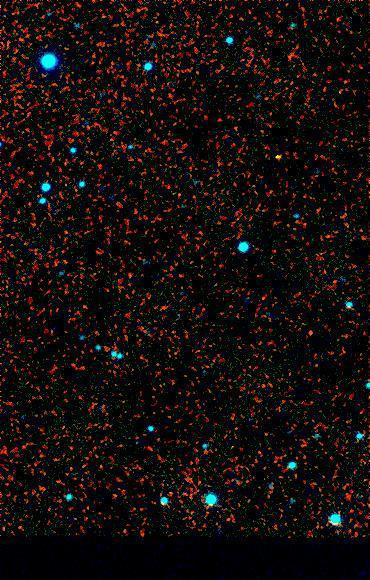star: (262, 142, 292, 172)
